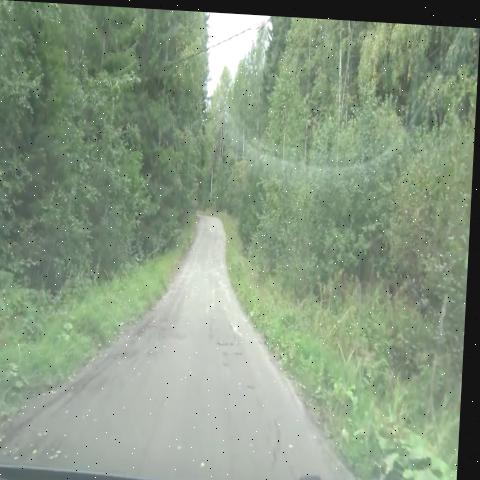pothole: (129, 306, 172, 353), (218, 323, 249, 369), (110, 337, 145, 367)
